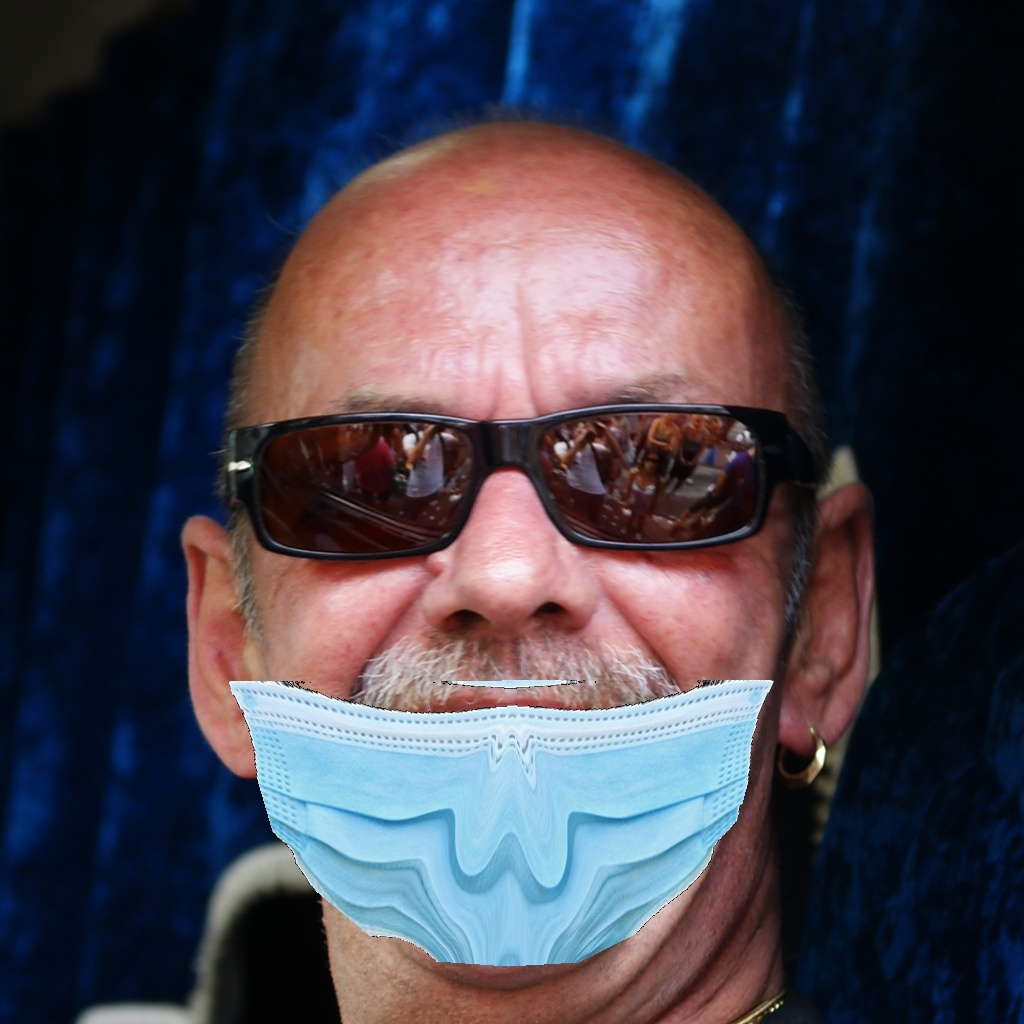mascarilla_mal_puesta: (189, 403, 832, 988)
